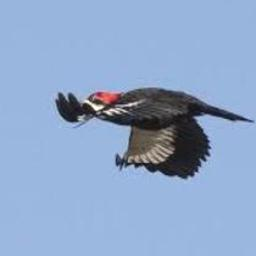Woodpecker: (56, 86, 256, 180)
